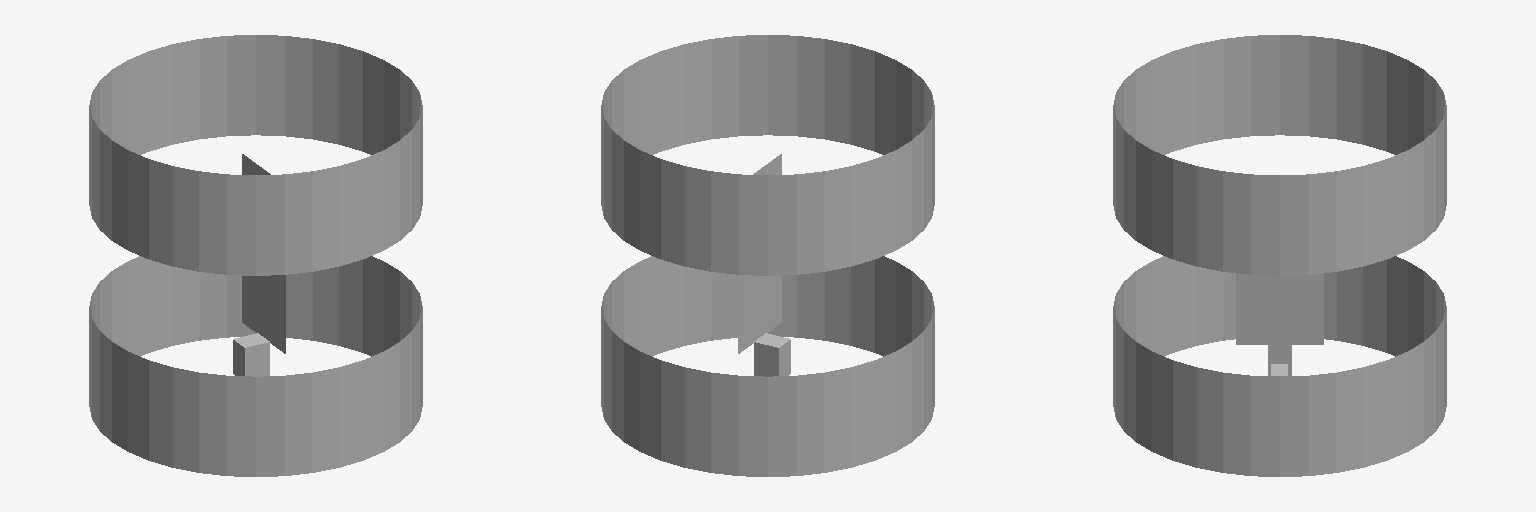
Rendered from SceneAufzug_Plank.obj.
The picture shows the model from 3 angles: view 1: azimuth 30°, elevation 25°; view 2: azimuth 150°, elevation 25°; view 3: azimuth 270°, elevation 25°; orthographic projection.
Parts seen in each view (by area): view 1: zylinderOben, zylinderUnten, Wand, Aufzug; view 2: zylinderOben, zylinderUnten, Wand, Aufzug; view 3: zylinderOben, zylinderUnten, Wand, Aufzug.
Part boxes in pixels (x1,y1,x2,y2): zylinderOben: (89,35,422,275); zylinderUnten: (89,256,422,476); Wand: (242,154,285,353); Aufzug: (233,333,269,376); zylinderOben: (601,35,934,275); zylinderUnten: (601,256,934,476); Wand: (738,154,781,353); Aufzug: (754,333,790,376); zylinderOben: (1113,35,1446,275); zylinderUnten: (1113,256,1446,476); Wand: (1236,273,1323,344); Aufzug: (1268,345,1291,376).
Size of the model in its own units: 600 by 600 by 600.